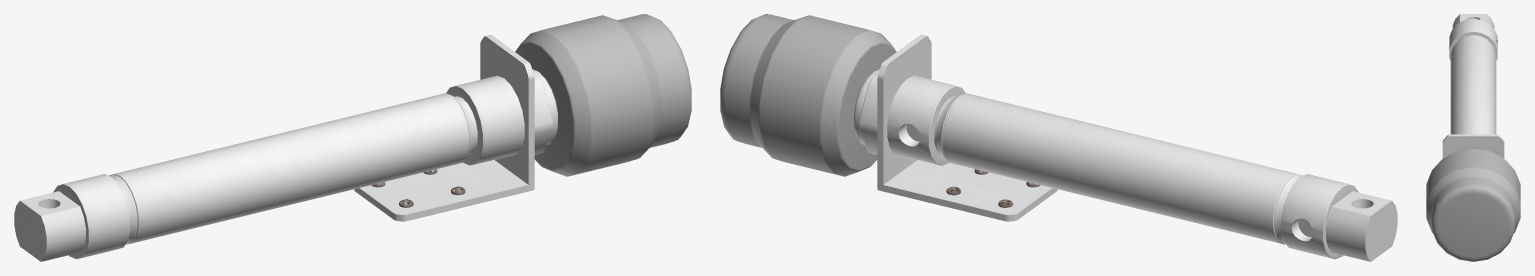
The model's file is 双作用单杆气缸.fbx.
3 renders of one model, left to right at view 1: azimuth 30°, elevation 25°; view 2: azimuth 150°, elevation 25°; view 3: azimuth 270°, elevation 25°, orthographic. The views are drawn at different scales.
Parts seen in each view (by area): view 1: 对象107, 对象108; view 2: 对象107, 对象108; view 3: 对象108, 对象107.
Boxes of the visible parts, <box> form: 对象107: <box>14,35,557,261</box>; 对象108: <box>515,14,691,176</box>; 对象107: <box>854,34,1397,261</box>; 对象108: <box>720,14,896,176</box>; 对象108: <box>1426,148,1520,261</box>; 对象107: <box>1442,14,1504,158</box>.
Bounding box in the file's own units: 26.12 × 5.38 × 5.29.
